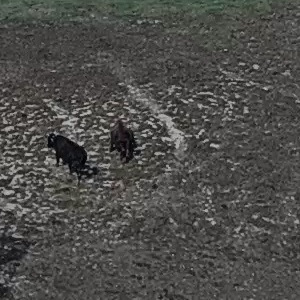cow: (34, 130, 98, 185), (105, 114, 157, 171)
